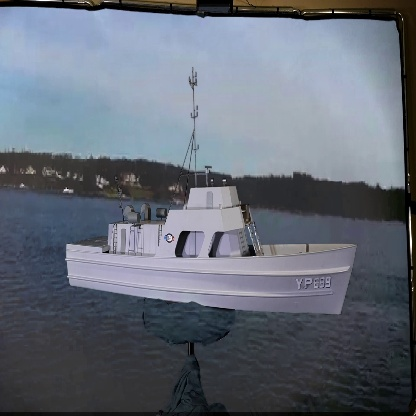YP689: (69, 68, 358, 317)
